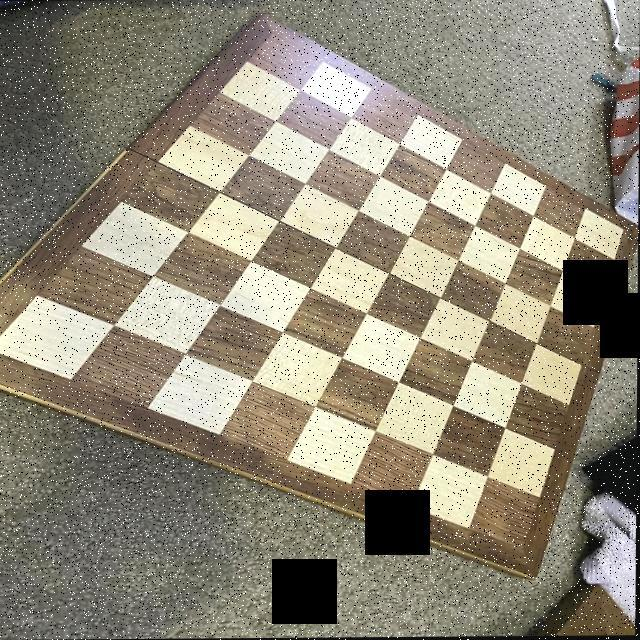chess-table-corners: (498, 522, 538, 558), (0, 322, 27, 362), (250, 27, 298, 48), (599, 215, 630, 245)
